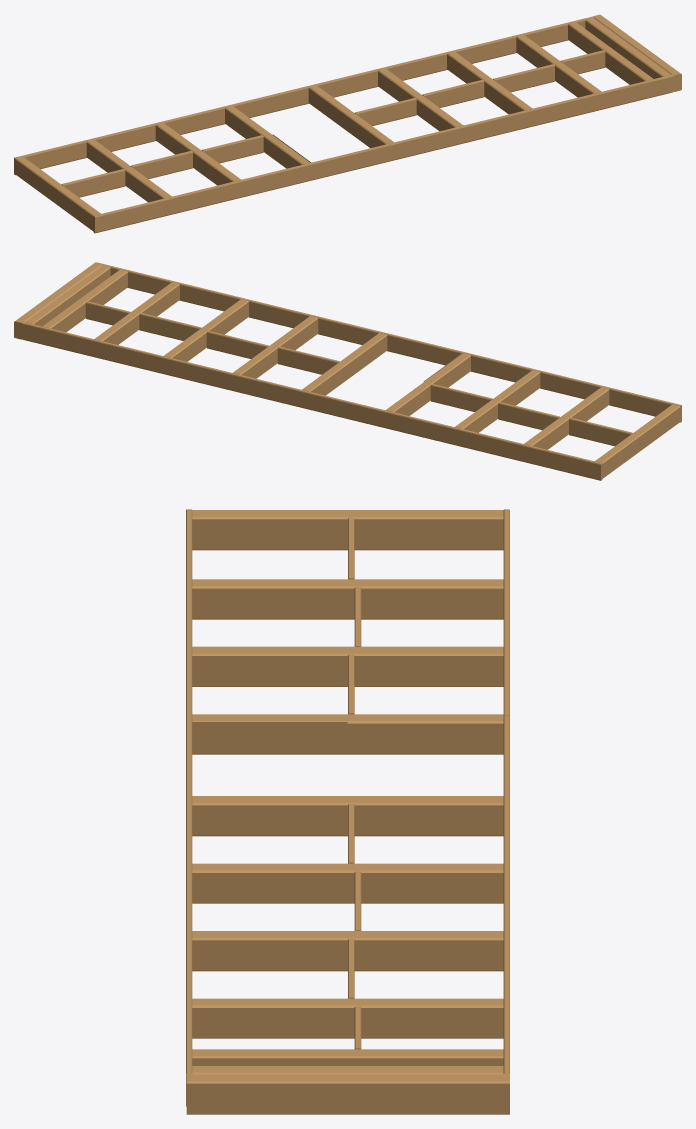
The model's file is interparete.fbx.
The picture shows the model from 3 angles, top to bottom: view 1: azimuth 30°, elevation 25°; view 2: azimuth 150°, elevation 25°; view 3: azimuth 270°, elevation 25°; orthographic projection. The views are drawn at different scales.
Visible parts, largest first — view 1: Stud_Frame_1; view 2: Stud_Frame_1; view 3: Stud_Frame_1.
Part boxes in pixels (x1,y1,x2,y2): Stud_Frame_1: (14, 14, 681, 233); Stud_Frame_1: (14, 262, 681, 480); Stud_Frame_1: (186, 509, 509, 1114).
Size of the model in its own units: 13.44 by 0.366 by 3.22.
